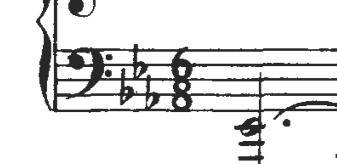bass_clef: (61, 41, 115, 110)
flat: (129, 38, 152, 83), (114, 63, 136, 110), (142, 74, 161, 114)
